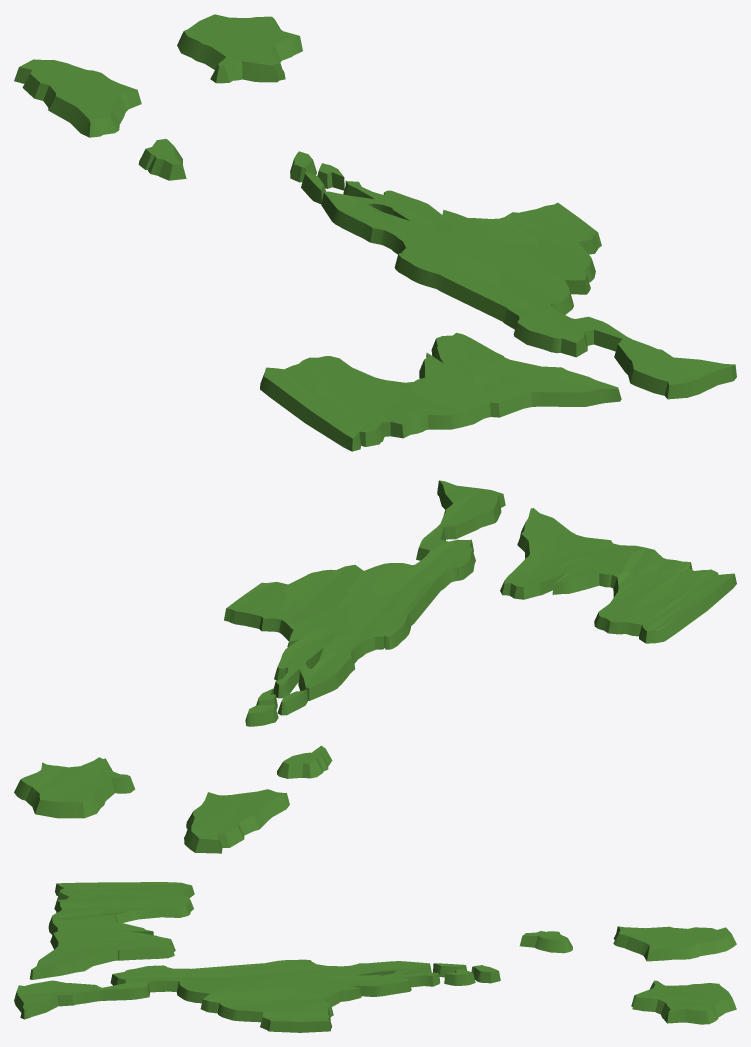
Rendered from grass_layer_block_F.fbx.
3 renders of one model, top to bottom at view 1: azimuth 30°, elevation 25°; view 2: azimuth 150°, elevation 25°; view 3: azimuth 270°, elevation 25°, orthographic. The views are drawn at different scales.
Parts seen in each view (by area): view 1: grass_layer_block_F_A, grass_layer_block_F_B, grass_layer_block_F_C, grass_layer_block_F_D, grass_layer_block_F_H; view 2: grass_layer_block_F_A, grass_layer_block_F_B, grass_layer_block_F_C, grass_layer_block_F_D, grass_layer_block_F_H, grass_layer_block_F_I; view 3: grass_layer_block_F_A, grass_layer_block_F_B, grass_layer_block_F_D, grass_layer_block_F_C, grass_layer_block_F_H, grass_layer_block_F_J, grass_layer_block_F_I, grass_layer_block_F_K.
Part boxes in pixels (bbox=[...]): grass_layer_block_F_A: bbox=[321, 181, 736, 399]; grass_layer_block_F_B: bbox=[260, 332, 621, 451]; grass_layer_block_F_C: bbox=[177, 14, 302, 83]; grass_layer_block_F_D: bbox=[14, 59, 141, 137]; grass_layer_block_F_H: bbox=[138, 138, 186, 180]; grass_layer_block_F_A: bbox=[224, 480, 505, 700]; grass_layer_block_F_B: bbox=[500, 508, 736, 643]; grass_layer_block_F_C: bbox=[14, 757, 135, 818]; grass_layer_block_F_D: bbox=[184, 789, 289, 853]; grass_layer_block_F_H: bbox=[277, 745, 332, 778]; grass_layer_block_F_I: bbox=[245, 704, 278, 726]; grass_layer_block_F_A: bbox=[14, 959, 440, 1032]; grass_layer_block_F_B: bbox=[29, 882, 194, 979]; grass_layer_block_F_D: bbox=[613, 926, 736, 961]; grass_layer_block_F_C: bbox=[631, 980, 736, 1024]; grass_layer_block_F_H: bbox=[519, 931, 572, 953]; grass_layer_block_F_J: bbox=[444, 969, 475, 985]; grass_layer_block_F_I: bbox=[471, 965, 500, 983]; grass_layer_block_F_K: bbox=[433, 963, 466, 977].
Size of the model in its own units: 1292 by 50.49 by 2747.
